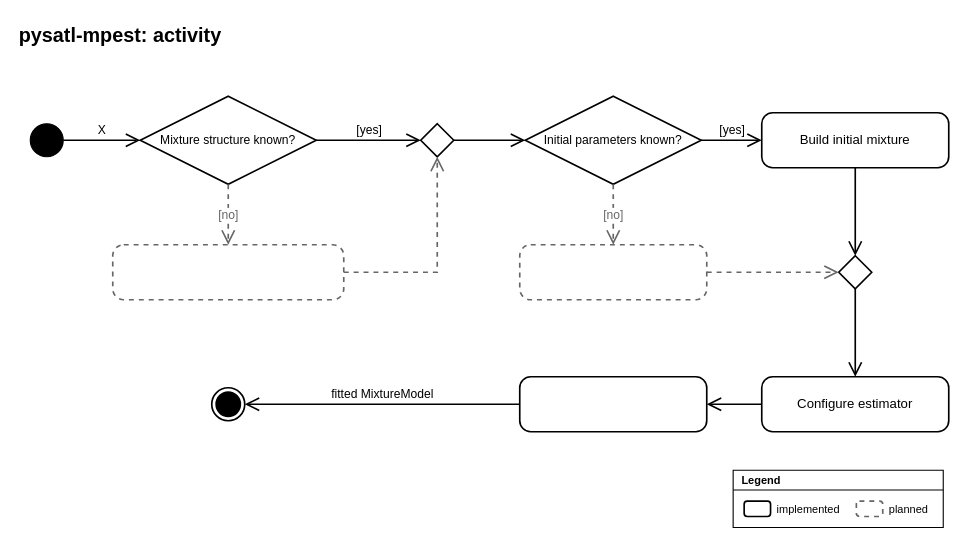
This 968x547 diagram has some shape labels left out. The shapes that lost their labels are listed below. From the top down, each one's centre as x and y in pixels, then its label:
At [227,271]: "Select number of components and families".
At [612,271]: "Initialize mixture".
At [612,403]: "Fit mixture".
